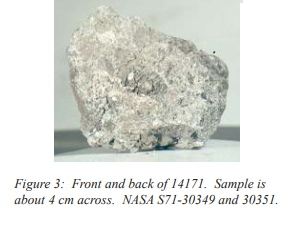Breccia: (56, 7, 231, 168)
